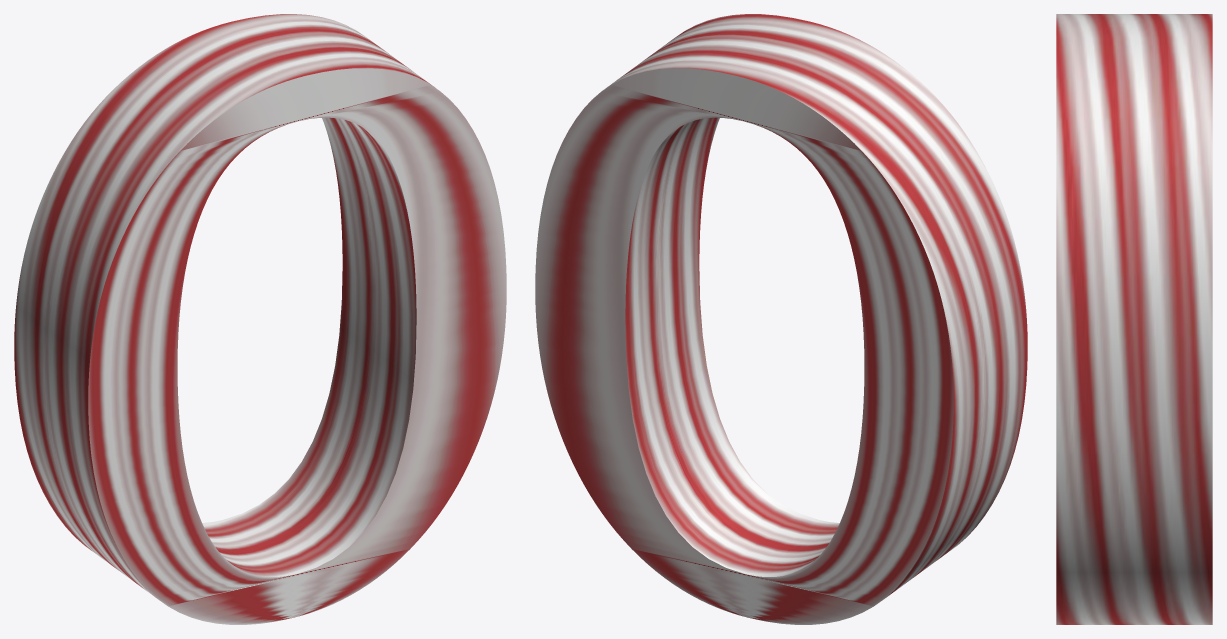
3 renders of one model, left to right at view 1: azimuth 30°, elevation 25°; view 2: azimuth 150°, elevation 25°; view 3: azimuth 270°, elevation 25°, orthographic. The views are drawn at different scales.
Parts seen in each view (by area): view 1: Text.010; view 2: Text.010; view 3: Text.010.
Boxes of the visible parts, bbox=[...] form: Text.010: bbox=[14, 14, 506, 624]; Text.010: bbox=[535, 14, 1027, 624]; Text.010: bbox=[1056, 14, 1212, 624].
Bounding box in the file's own units: 0.3919 × 0.4823 × 0.12.
1 material, 1 textured.
